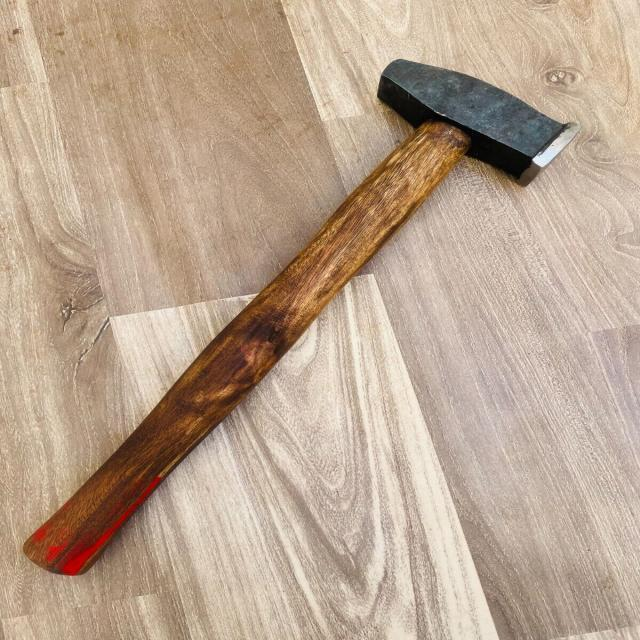hammer: (15, 49, 593, 588)
